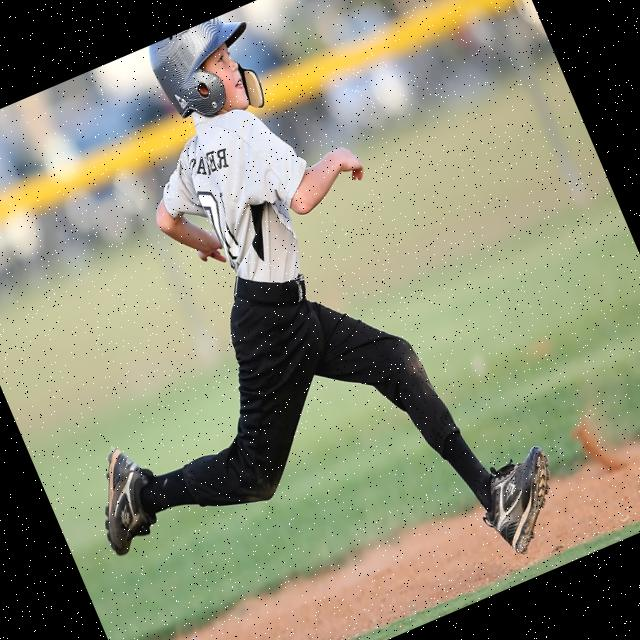Person: (0, 0, 578, 640)
